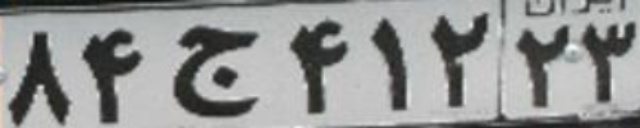1: (369, 17, 411, 110)
2: (430, 11, 489, 108), (511, 23, 571, 109)
3: (581, 20, 635, 104)
4: (81, 28, 144, 123), (287, 19, 349, 114)
8: (9, 31, 73, 123)
jim: (172, 25, 262, 116)
